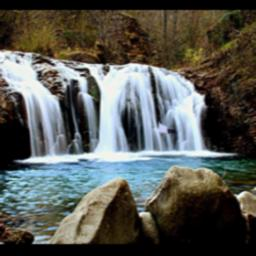Crow: (160, 66, 191, 134)
